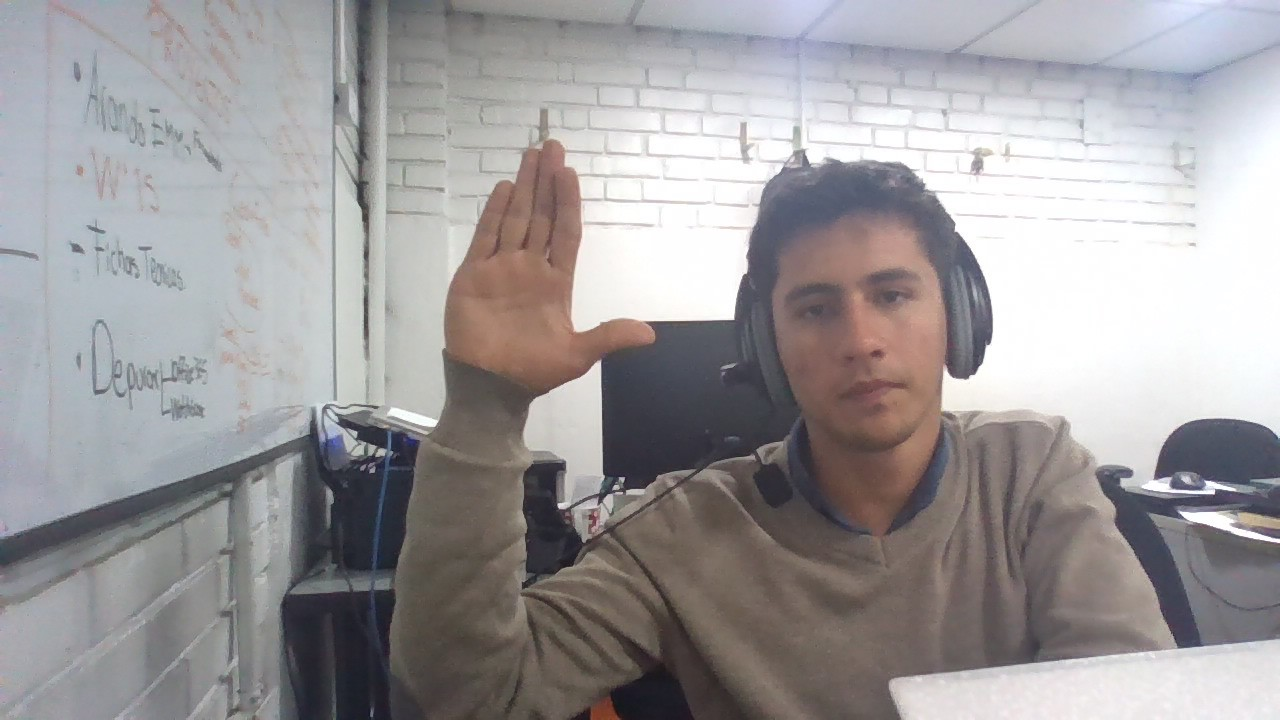hola: (441, 132, 662, 409)
